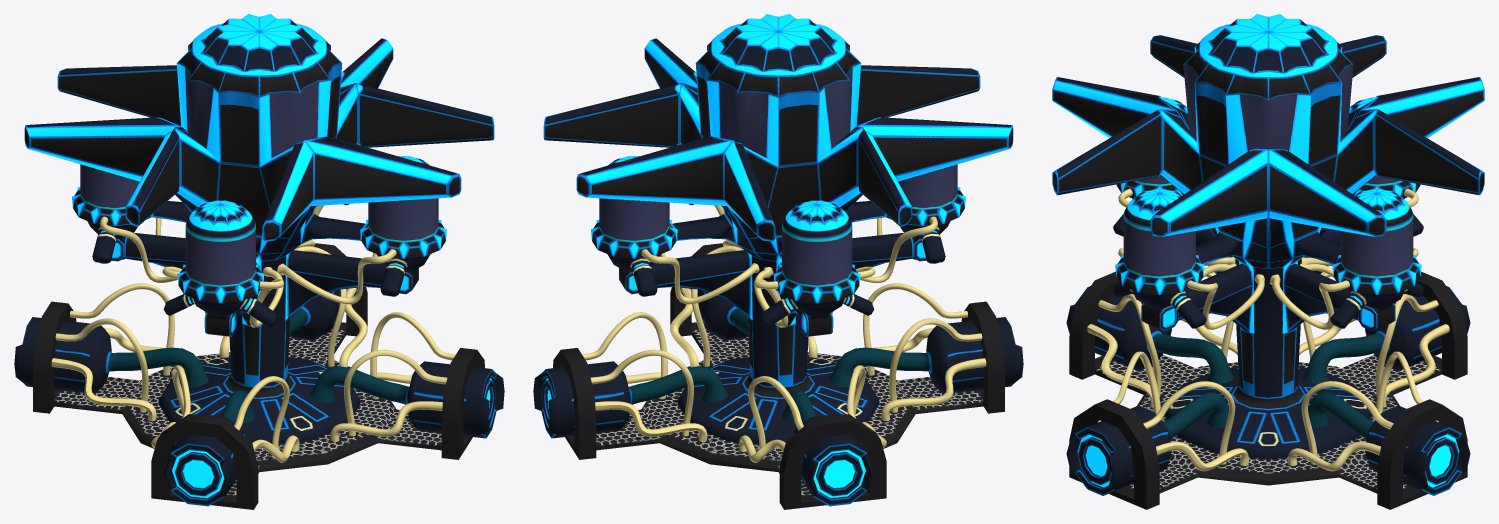
Rendered from gd55_mod1_a2_amirsalarsolimani.glb.
3 views of the same model, side by side, from view 1: azimuth 30°, elevation 25°; view 2: azimuth 150°, elevation 25°; view 3: azimuth 270°, elevation 25° (orthographic). The views are drawn at different scales.
Parts seen in each view (by area): view 1: Object_3, Object_2, Object_4, Object_5; view 2: Object_3, Object_2, Object_4, Object_5; view 3: Object_3, Object_2, Object_4, Object_5.
Part boxes in pixels (x1,y1,x2,y2): Object_3: (24, 14, 494, 509); Object_2: (14, 289, 504, 506); Object_4: (70, 205, 455, 462); Object_5: (51, 218, 161, 421); Object_3: (543, 14, 1013, 509); Object_2: (533, 289, 1023, 506); Object_4: (582, 205, 986, 462); Object_5: (753, 267, 886, 448); Object_3: (1052, 14, 1484, 509); Object_2: (1066, 286, 1470, 495); Object_4: (1087, 188, 1449, 471); Object_5: (1299, 188, 1418, 358).
Size of the model in its own units: 59.68 by 60 by 59.68.
Materials: 3 (3 with a texture image).
